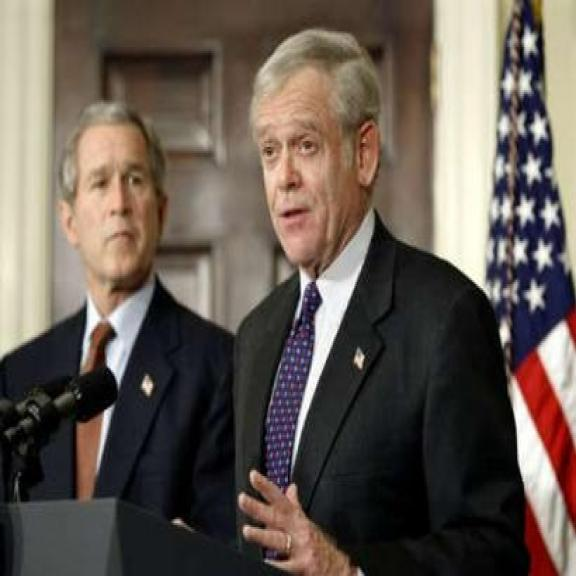face: (256, 78, 384, 270), (56, 126, 172, 285)
